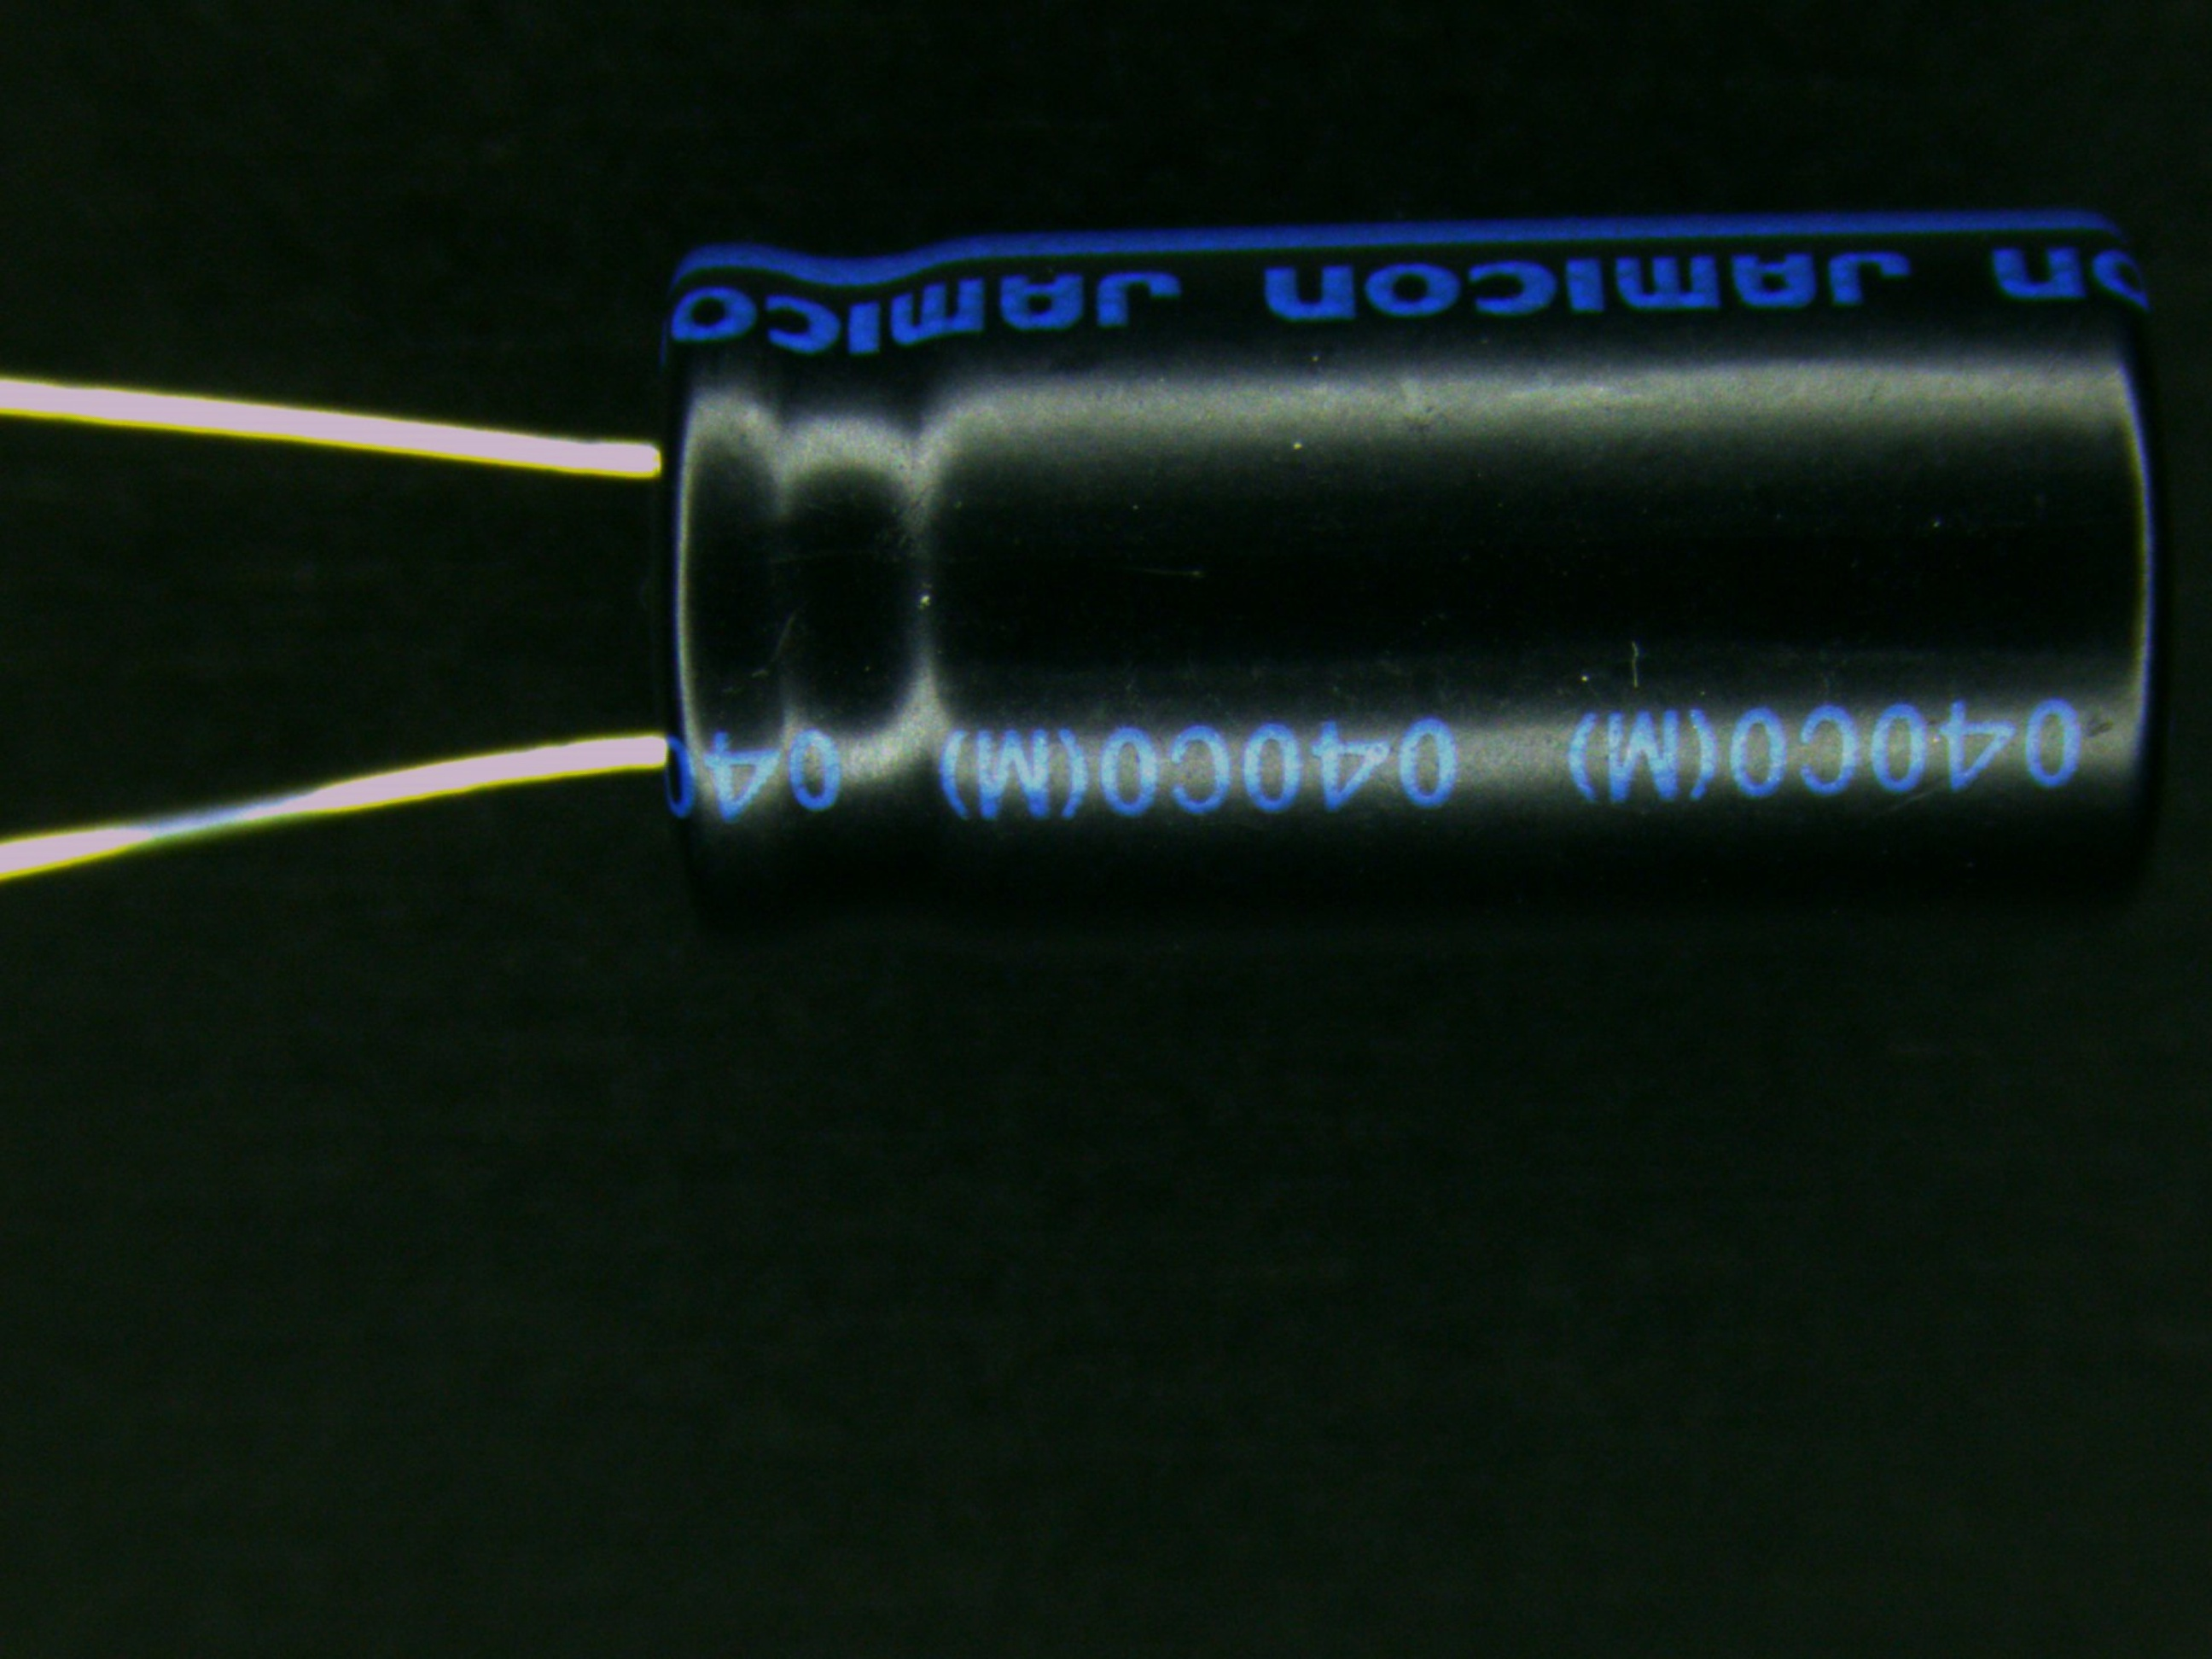c2: (458, 206, 2175, 903)
